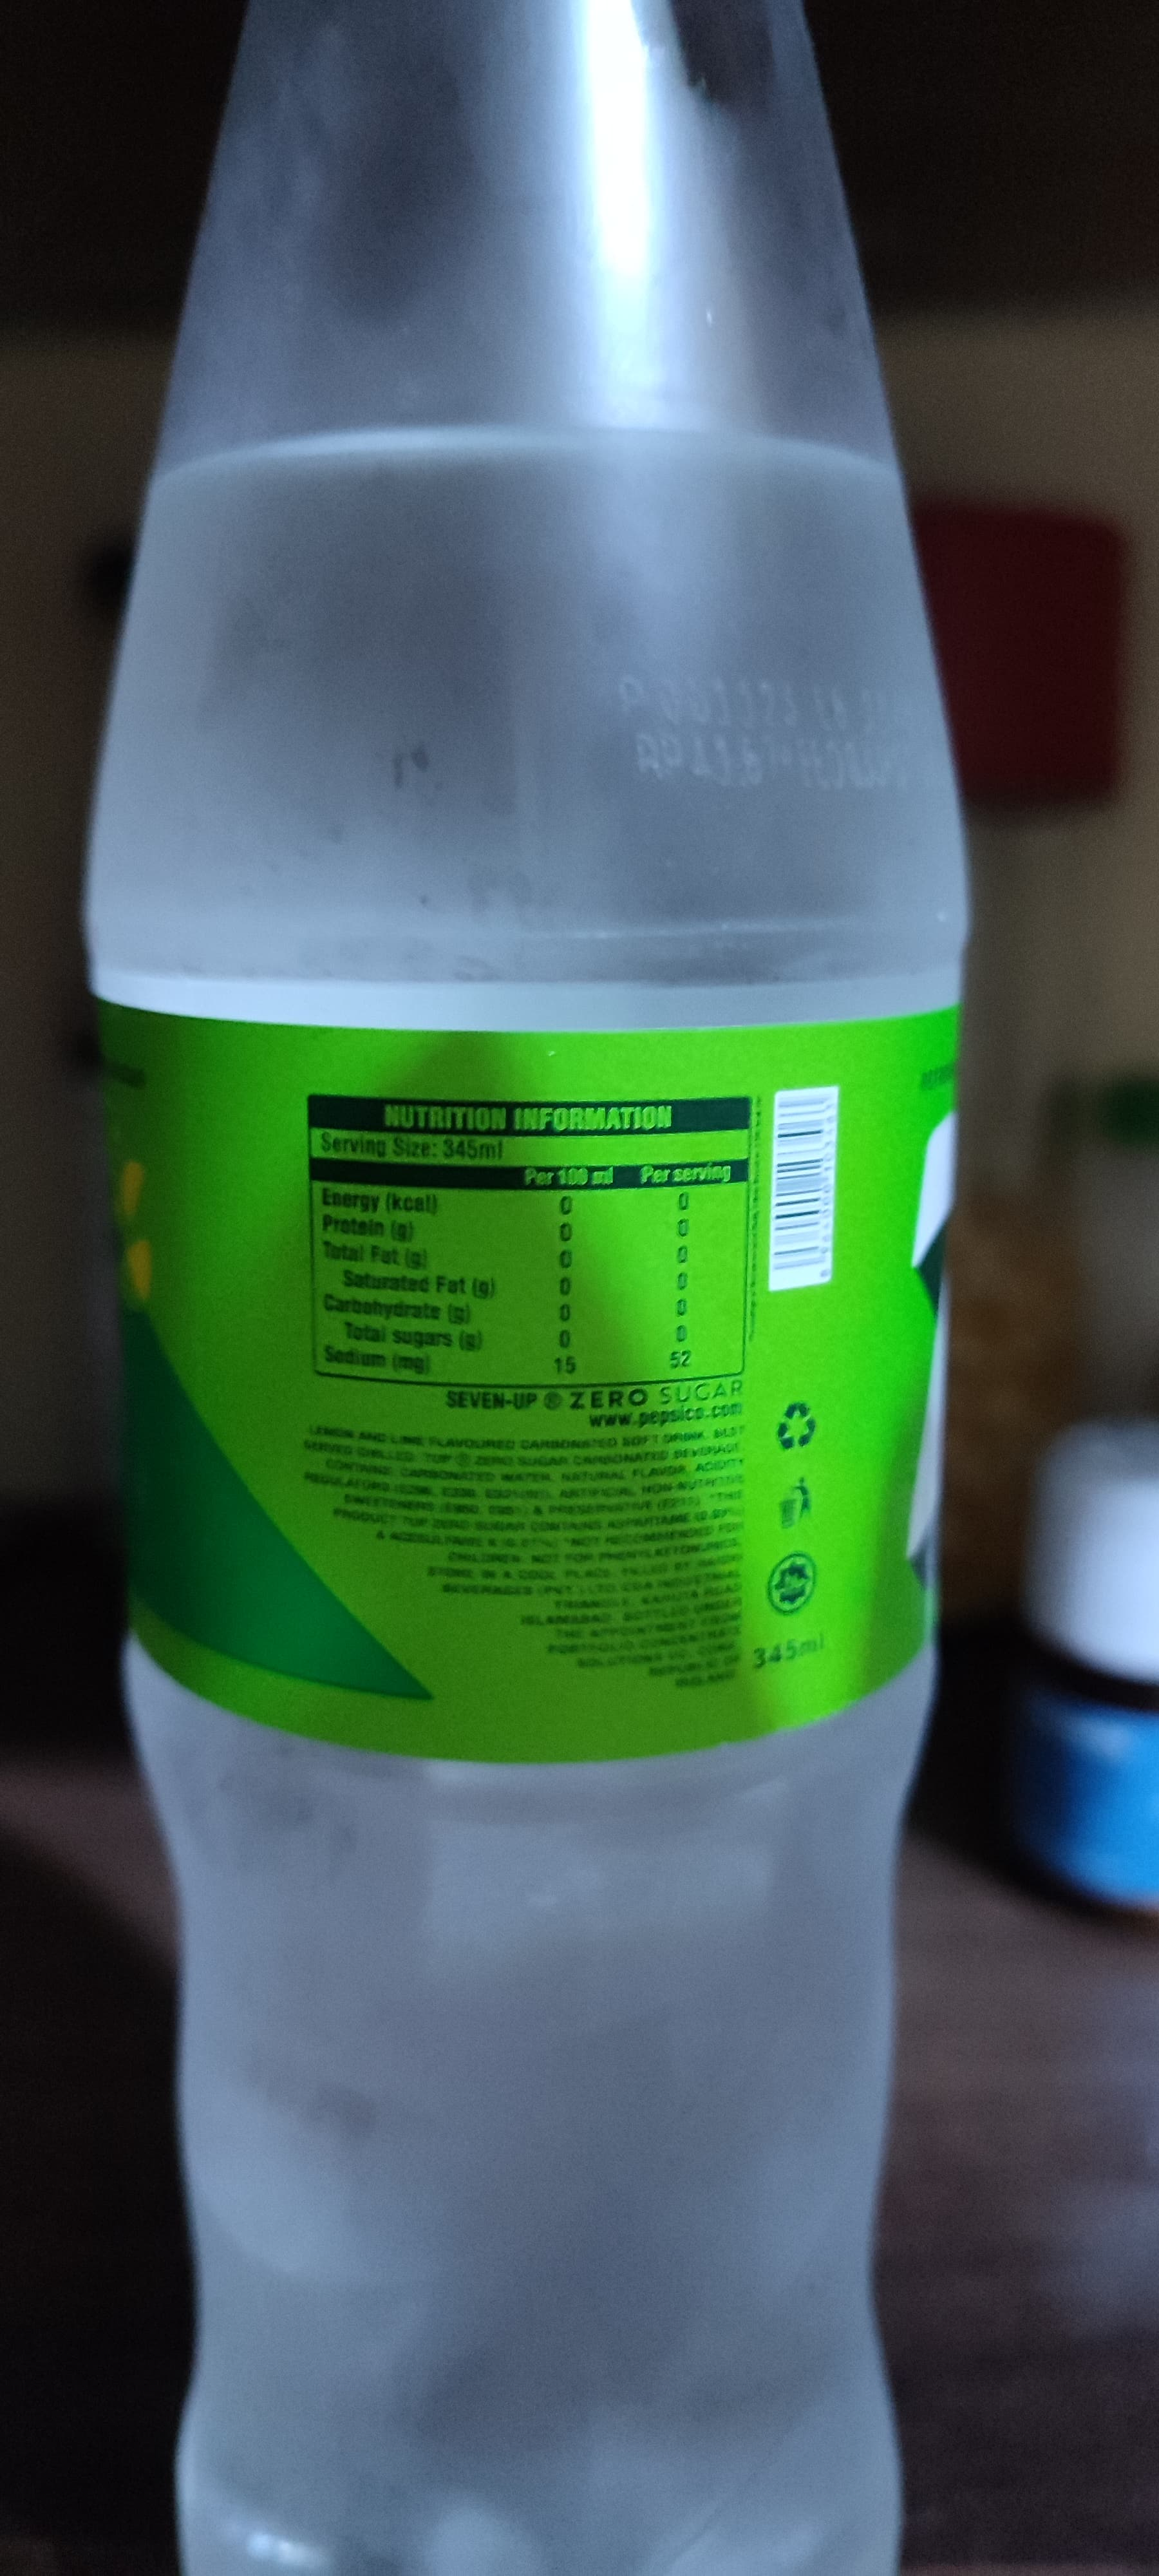table: (292, 1079, 770, 1390)
